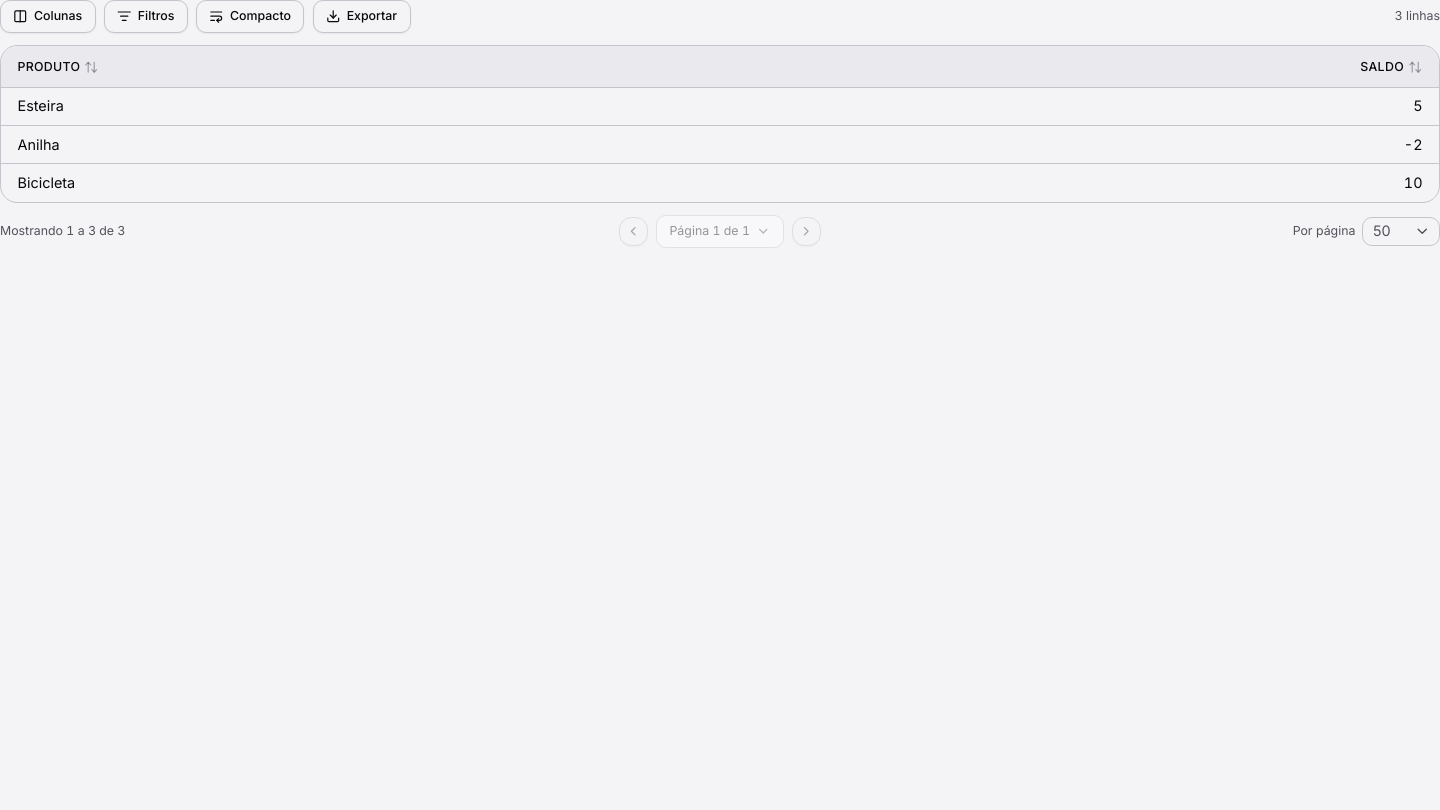
Test: DataTable colunas › renderiza um checkbox por coluna dentro do popover
The width and height of the screenshot is (1440, 810).
Click the button with aria-label "gerenciar colunas" at (48, 16), box [0, 0, 96, 33]
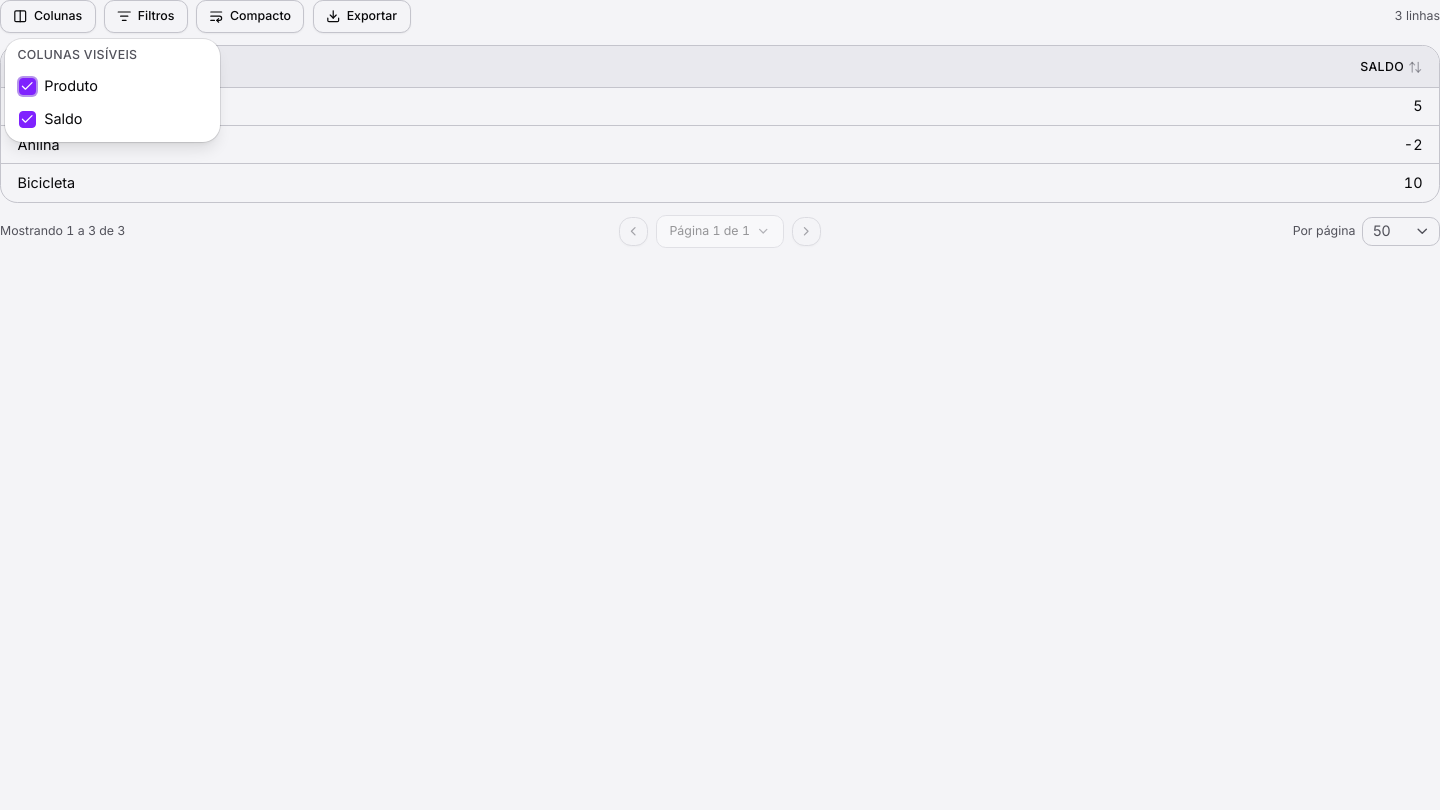
Check: the checkbox named "mostrar coluna produto" is shown, box [19, 78, 36, 95]
Check: the checkbox named "mostrar coluna saldo" is shown, box [19, 111, 36, 128]
